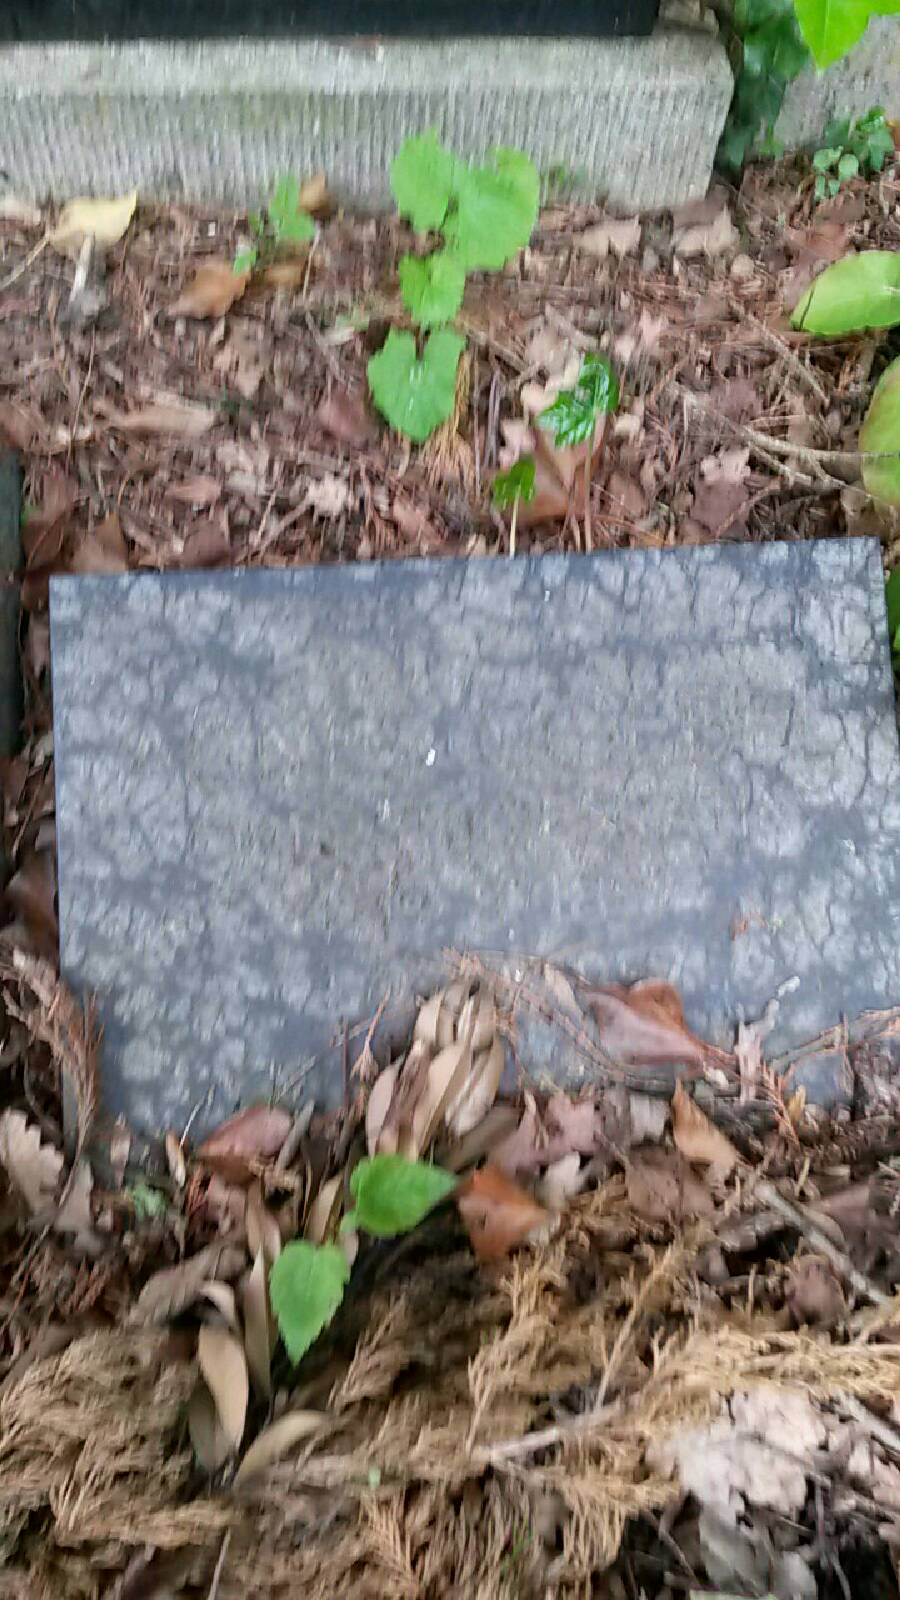flat: (40, 534, 892, 1153)
